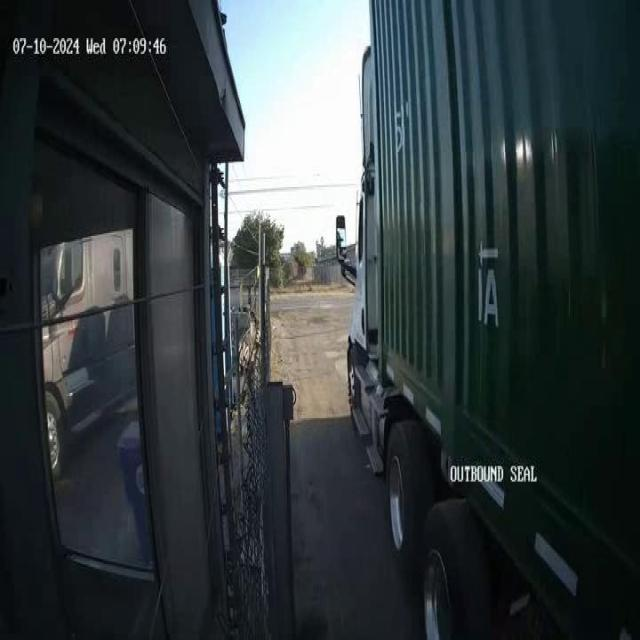TRUCK_CONTAINER: (334, 1, 639, 636)
